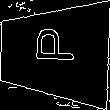P_W: (31, 34, 79, 72)
